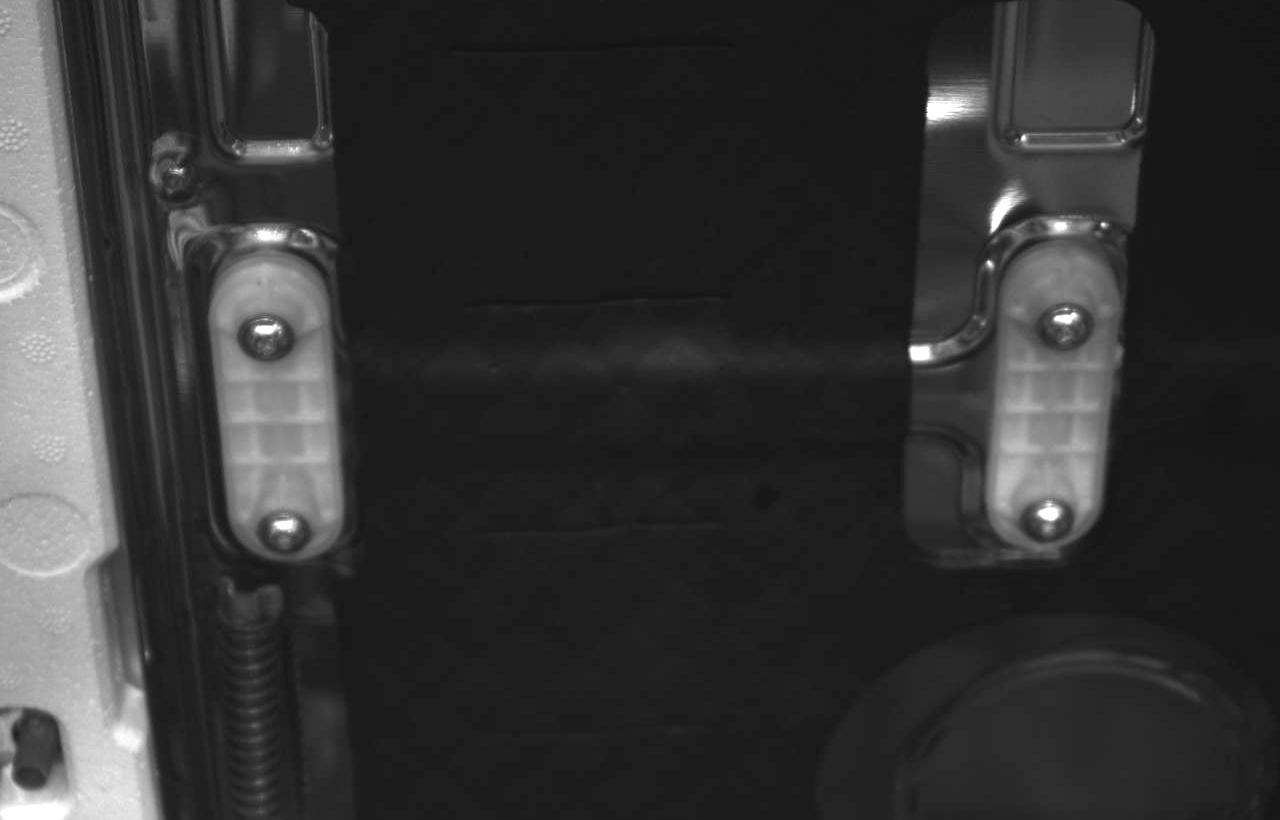vida-ok: (226, 301, 297, 368), (1031, 288, 1099, 355), (1016, 484, 1081, 552), (254, 501, 320, 559)
